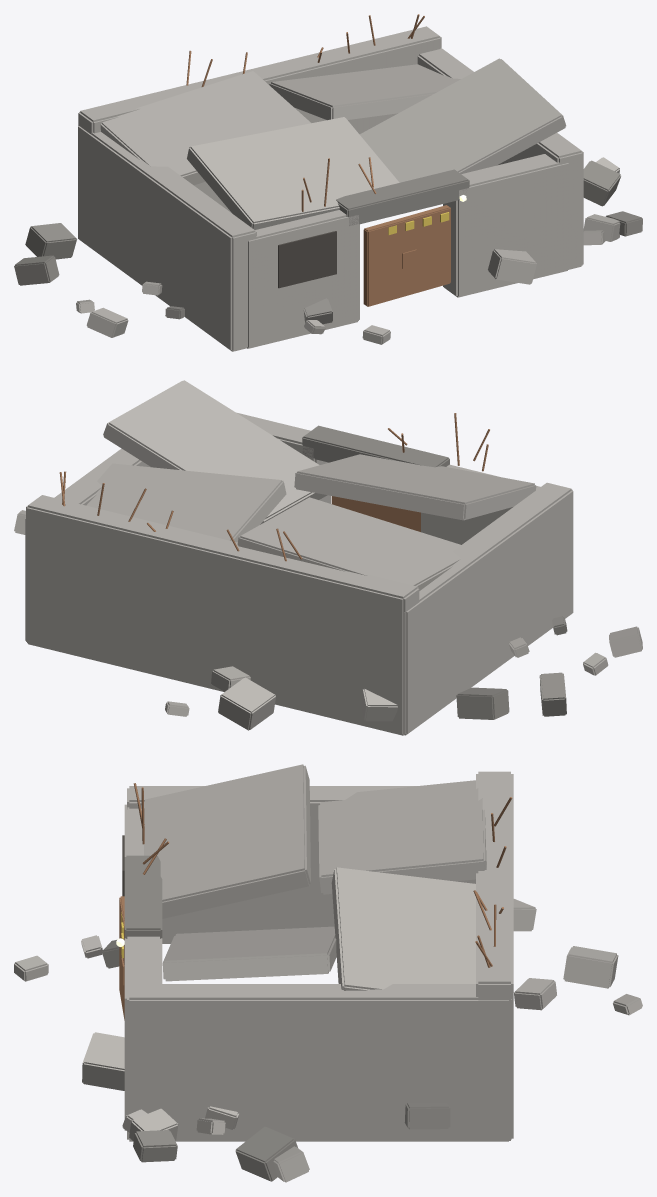
File: ruin_bunker.fbx
3 renders of one model, top to bottom at view 1: azimuth 30°, elevation 25°; view 2: azimuth 150°, elevation 25°; view 3: azimuth 270°, elevation 25°, orthographic. The views are drawn at different scales.
Parts seen in each view (by area): view 1: ruin_bunker; view 2: ruin_bunker; view 3: ruin_bunker.
Part boxes in pixels (x1=…): ruin_bunker: x1=14, y1=14, x2=642, y2=351; ruin_bunker: x1=14, y1=380, x2=642, y2=735; ruin_bunker: x1=14, y1=764, x2=642, y2=1182.
Bounding box in the file's own units: 19.04 × 5.39 × 15.04.
